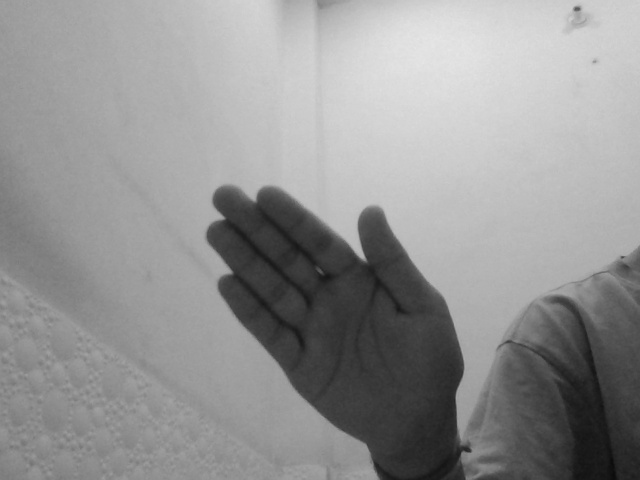Hello: (200, 179, 470, 458)
